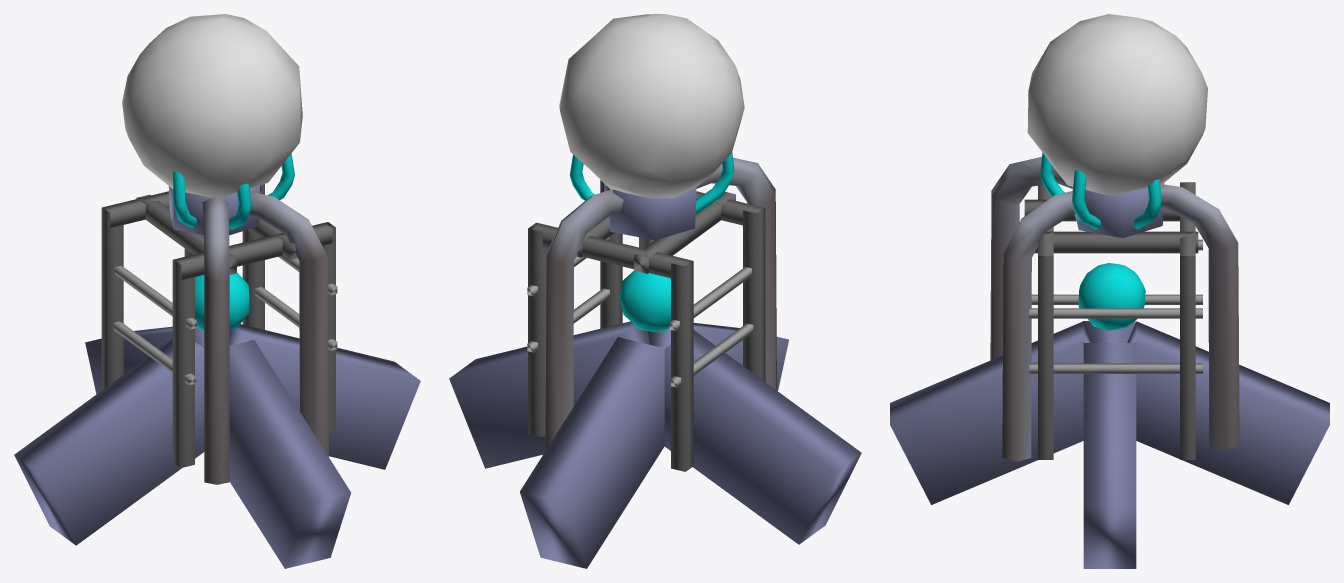
The model's file is Cold reactor.fbx.
3 renders of one model, left to right at view 1: azimuth 30°, elevation 25°; view 2: azimuth 150°, elevation 25°; view 3: azimuth 270°, elevation 25°, orthographic.
Parts seen in each view (by area): view 1: PM3D_Plane3D193_058; view 2: PM3D_Plane3D193_058; view 3: PM3D_Plane3D193_058.
Boxes of the visible parts, x1,y1,x2,y2 form: PM3D_Plane3D193_058: (14, 14, 420, 568); PM3D_Plane3D193_058: (449, 14, 861, 568); PM3D_Plane3D193_058: (890, 14, 1329, 568).
Size of the model in its own units: 925 by 1098 by 927.
